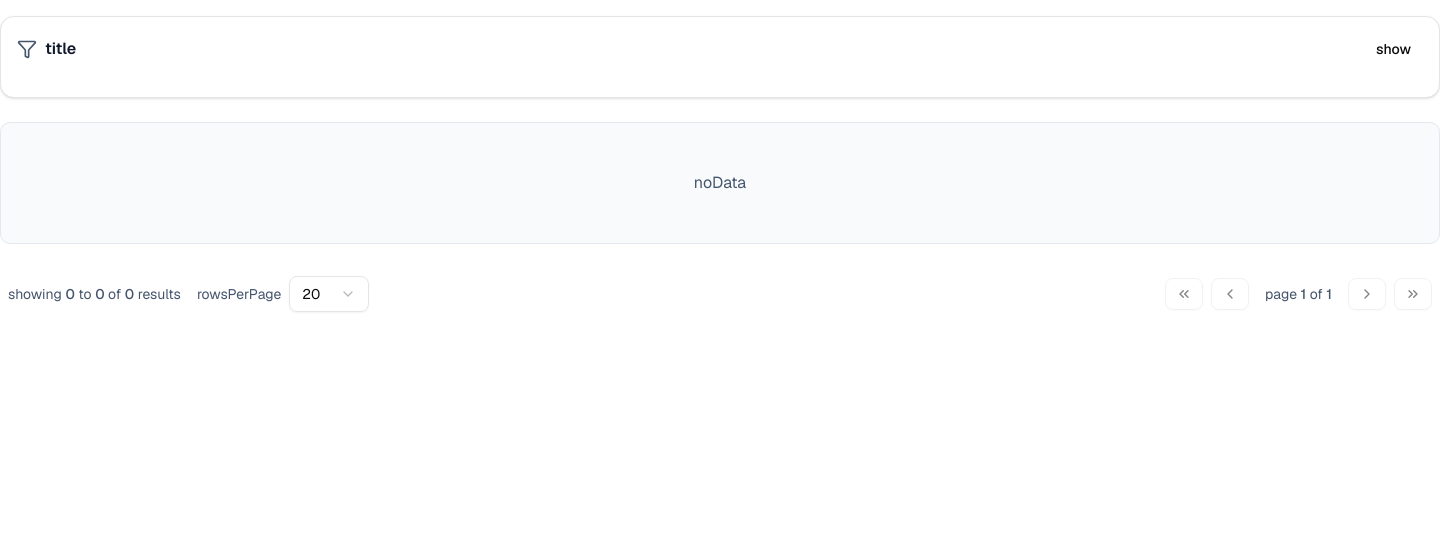
it: AuditLogBrowser › offers the "by" filter only to admins who may list admins
What coordinates should you click on to do the following:
click the button "show"
I would click on:
 (1394, 49)
Its box is [1364,33,1423,65].
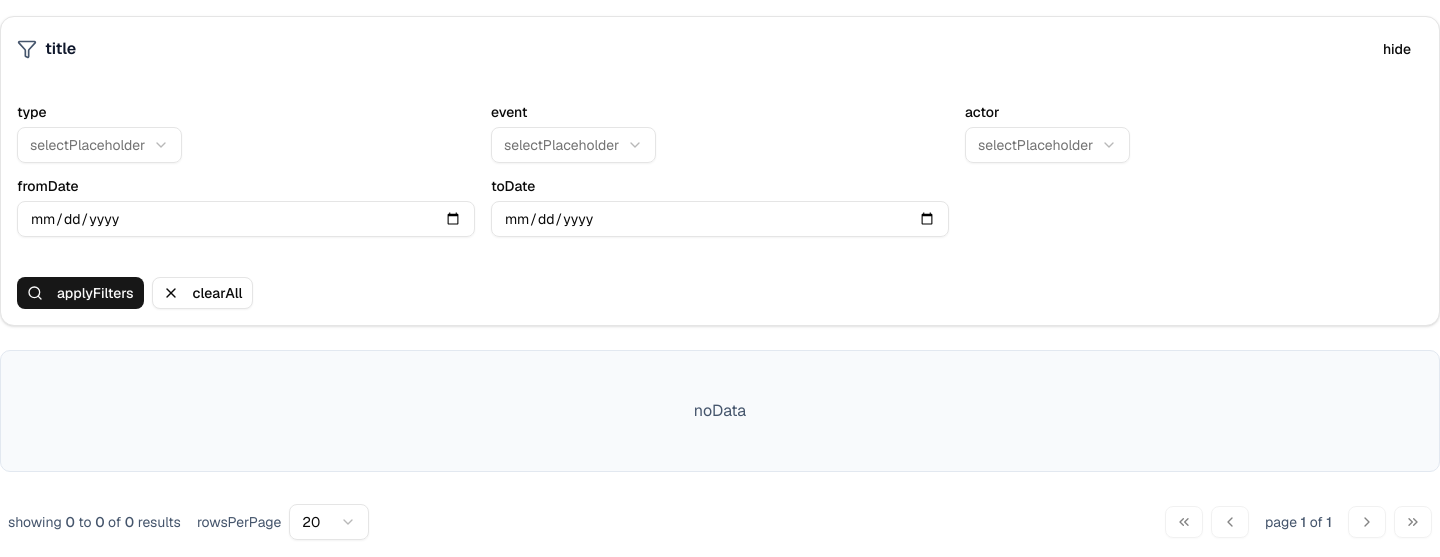
Now the text "actor" is shown, box [965,103,999,121]
